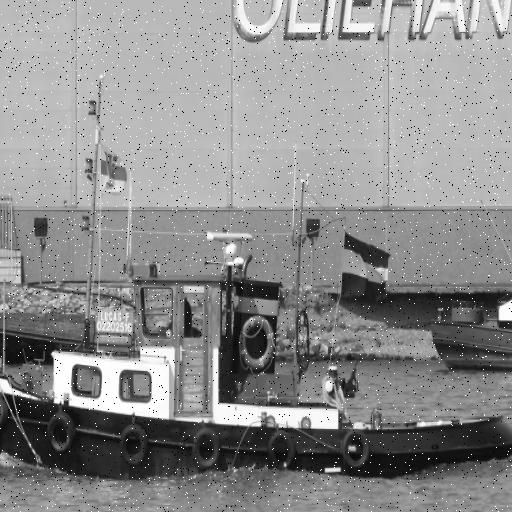tugboat: (1, 75, 512, 497)
